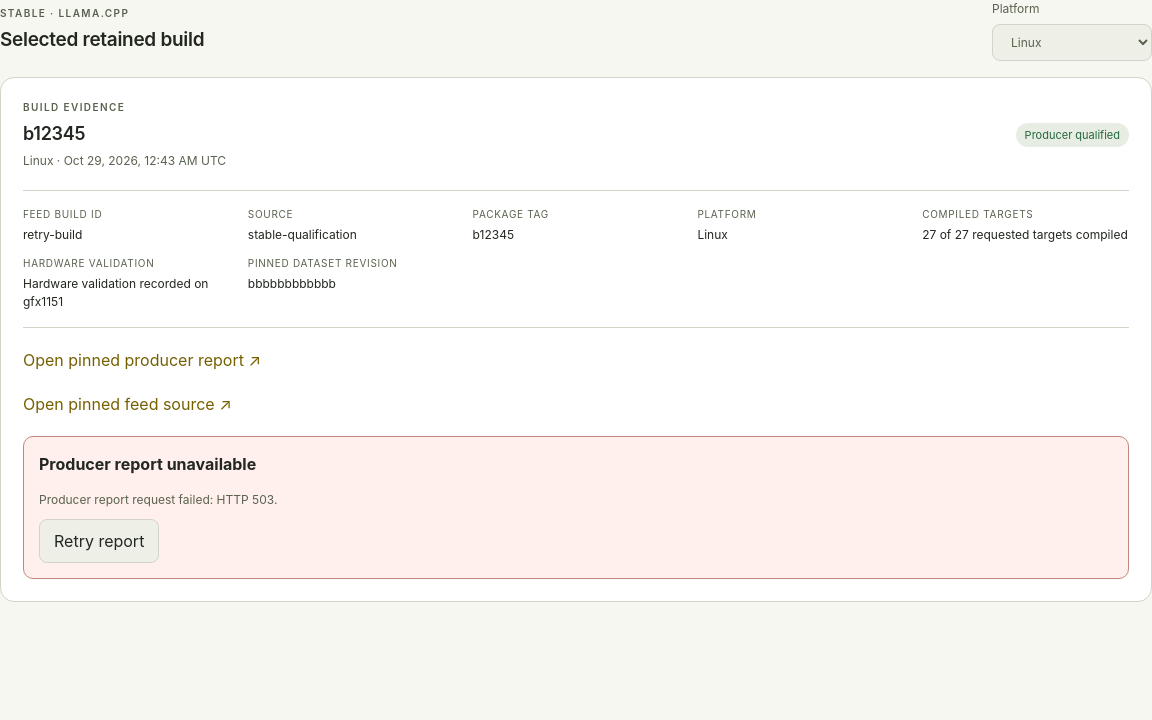
Scenario: BuildBrowser › keeps the selected build header and retries after a report is unavailable
This screenshot has width=1152, height=720.
Expected: the message shows "HTTP 503", [39,492,277,507]
Expected: the heading "b12345" is shown, [23,123,85,144]
Click the button "Retry report": x=99, y=541 [39,519,159,563]
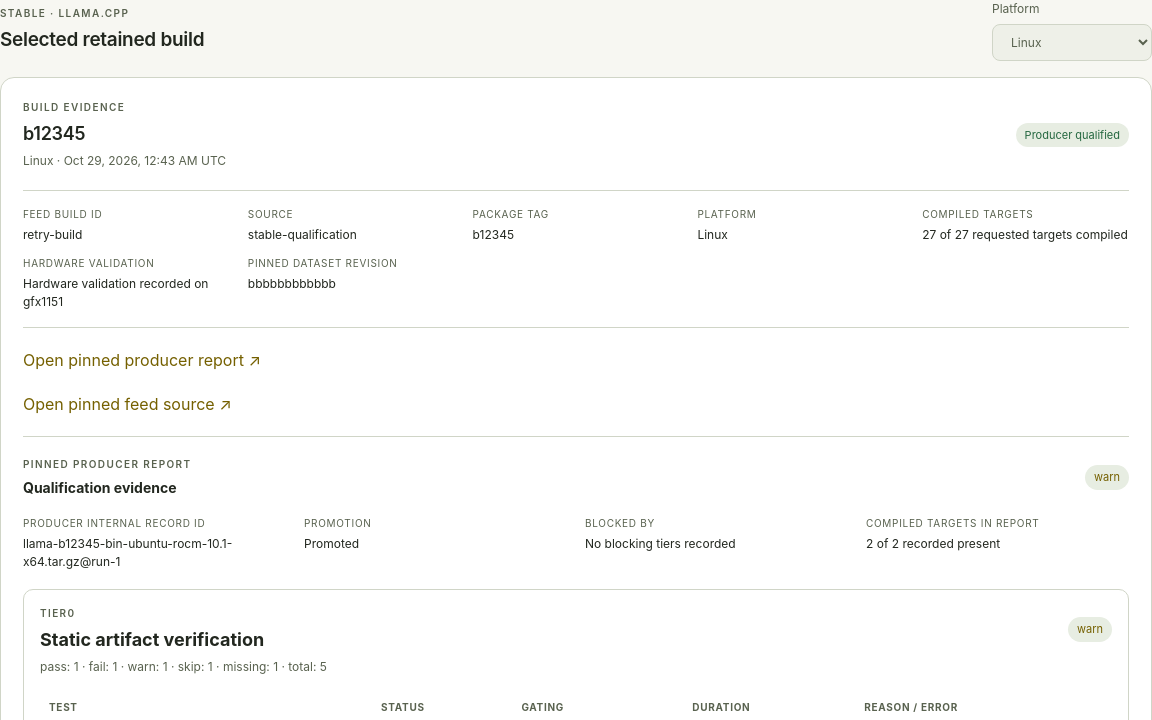
Expected: the heading "Static artifact verification" is shown, [40,626,264,653]
